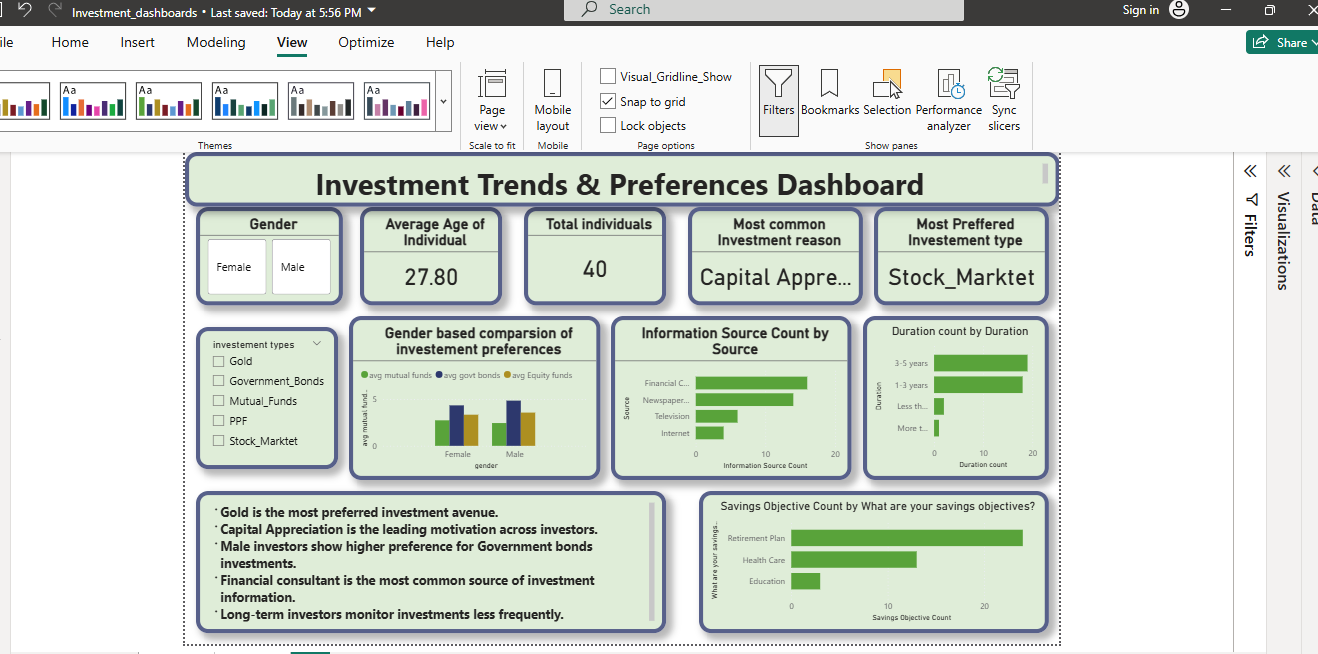

Layout of this report page (visuals, bound fields, positions):
{"tool":"powerbi","page":{"name":"Page 1","canvas":[1280,720],"ordinal":0},"visuals":[{"type":"card","title":"Average Age of Individual","fields":{"Values":["Data_set 2.Average Age"]},"box":[256,80,208,144],"z":0},{"type":"clusteredColumnChart","title":"Gender based comparsion of investement preferences","fields":{"Category":["Data_set 2.gender"],"Y":["Data_set 2.avg mutual funds","Data_set 2.avg govt bonds","Data_set 2.avg Equity funds"]},"box":[240,240,368,240],"z":1000},{"type":"clusteredBarChart","fields":{"Category":["Data_set 2.Source"],"Y":["Data_set 2.Information Source Count"]},"box":[624,240,352,240],"z":2000},{"type":"card","title":"Total individuals","fields":{"Values":["Data_set 2.Total individual"]},"box":[496,80,208,144],"z":3000},{"type":"advancedSlicerVisual","fields":{"Values":["Data_set 2.gender"]},"box":[16,80,215,144],"z":4000},{"type":"textbox","box":[0,0,1280,80],"z":5000},{"type":"slicer","fields":{"Values":["Investement_preference.investement types"]},"box":[16,256,208,208],"z":6000},{"type":"textbox","box":[16,496,688,208],"z":8000},{"type":"card","title":"Most common Investment reason","fields":{"Values":["Invesement_reason.Most Common Investment Reason"]},"box":[736,80,256,144],"z":9000},{"type":"card","title":"Most Preffered Investement type","fields":{"Values":["Investement_preference.Most Preferred Investment Type"]},"box":[1008,80,256,144],"z":10000},{"type":"clusteredBarChart","fields":{"Category":["Data_set 2.Duration"],"Y":["Data_set 2.Duration count"]},"box":[992,240,272,240],"z":10001},{"type":"clusteredBarChart","fields":{"Y":["Data_set 2.Savings Objective Count"],"Category":["Data_set 2.What are your savings objectives?"]},"box":[752,496,512,208],"z":10002}]}

Visuals, with their boxes on the page's 1280x720 design canvas (x1, y1, x2, y2). These are canvas units, not pixel positions in the 1318x654 screenshot, which may show the page scaled, cropped or inside an application window:
"Average Age of Individual" card: locate(256, 80, 464, 224)
"Gender based comparsion of investement preferences" clusteredColumnChart: locate(240, 240, 608, 480)
clusteredBarChart - Data_set 2.Source x Data_set 2.Information Source Count: locate(624, 240, 976, 480)
"Total individuals" card: locate(496, 80, 704, 224)
advancedSlicerVisual - Data_set 2.gender: locate(16, 80, 231, 224)
textbox: locate(0, 0, 1280, 80)
slicer - Investement_preference.investement types: locate(16, 256, 224, 464)
textbox: locate(16, 496, 704, 704)
"Most common Investment reason" card: locate(736, 80, 992, 224)
"Most Preffered Investement type" card: locate(1008, 80, 1264, 224)
clusteredBarChart - Data_set 2.Duration x Data_set 2.Duration count: locate(992, 240, 1264, 480)
clusteredBarChart - Data_set 2.Savings Objective Count x Data_set 2.What are your savings objectives?: locate(752, 496, 1264, 704)
